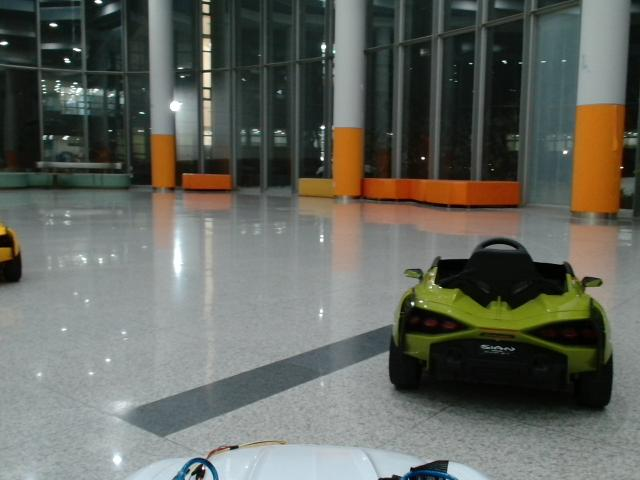car: (389, 237, 614, 411)
